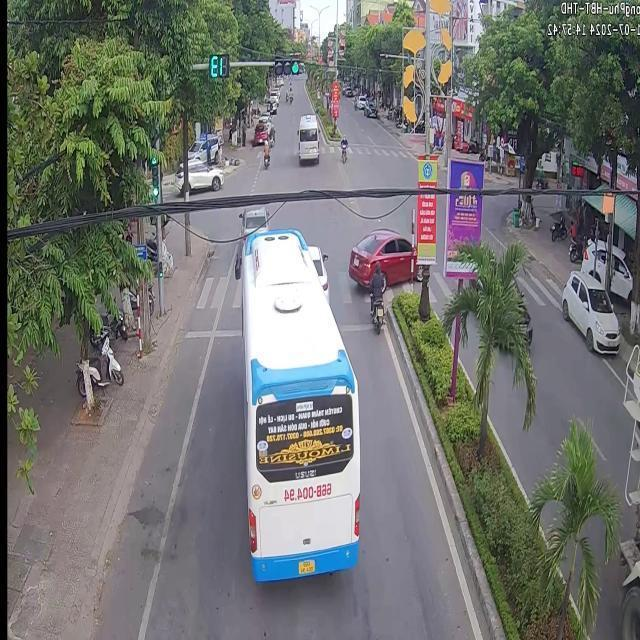car: (233, 227, 354, 578), (296, 111, 318, 162)
green_light: (346, 227, 411, 283), (271, 54, 300, 74), (149, 156, 159, 200)
motobike: (368, 260, 383, 331), (262, 134, 268, 167)
stop_line: (183, 326, 239, 336), (334, 323, 371, 331)
